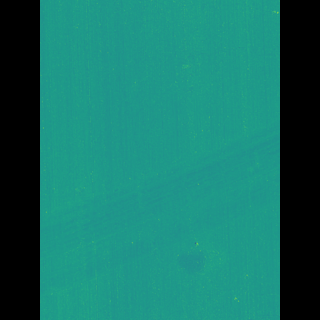Loch: (70, 121, 249, 296), (170, 239, 202, 283)
